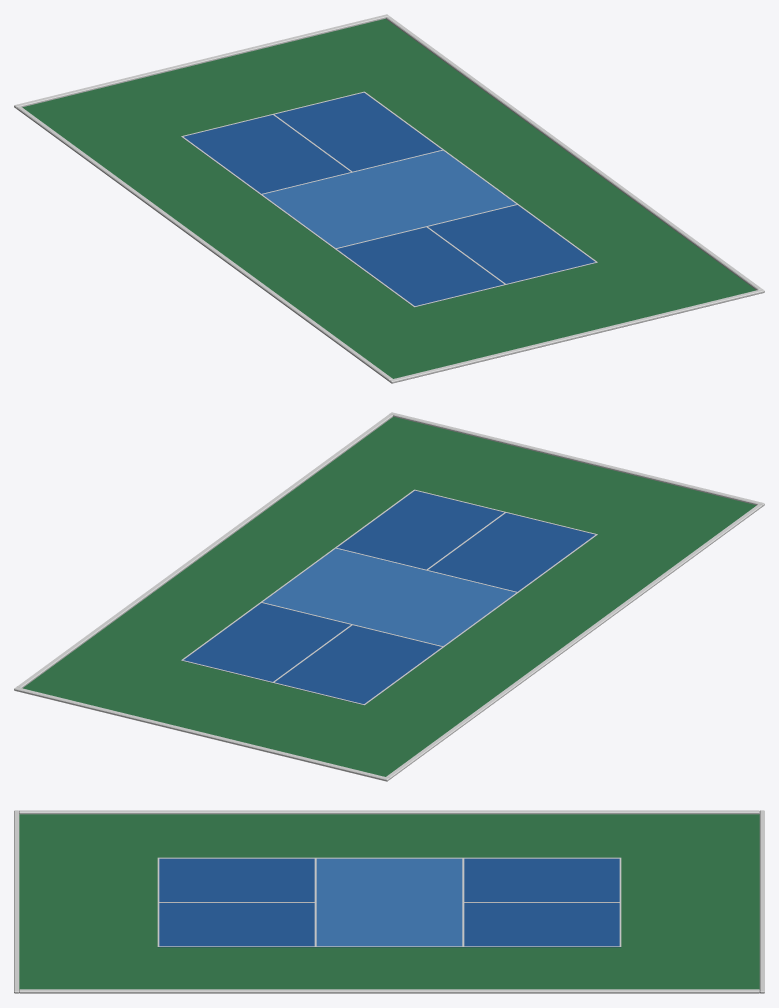
File: court.glb
3 renders of one model, top to bottom at view 1: azimuth 30°, elevation 25°; view 2: azimuth 150°, elevation 25°; view 3: azimuth 270°, elevation 25°, orthographic.
Parts seen in each view (by area): view 1: court; view 2: court; view 3: court.
Boxes of the visible parts, bbox=[...] form: court: bbox=[14, 14, 764, 383]; court: bbox=[14, 412, 764, 781]; court: bbox=[14, 810, 764, 993].
Size of the model in its own units: 12.4 by 0.08 by 21.71.
